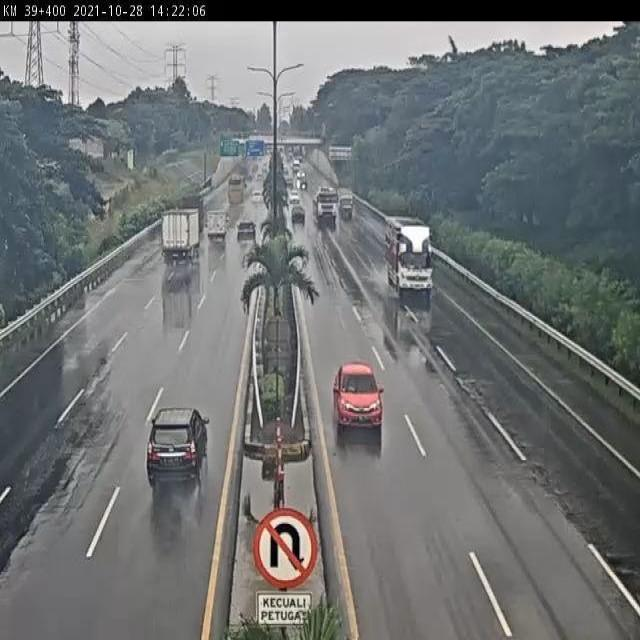Car: (146, 402, 209, 486), (332, 359, 383, 432), (236, 218, 257, 246), (290, 203, 307, 224), (250, 188, 266, 205), (286, 190, 301, 205)
Truck: (384, 214, 435, 299), (158, 204, 203, 269), (312, 186, 345, 231), (205, 207, 230, 246), (338, 184, 358, 226), (226, 171, 248, 208)
